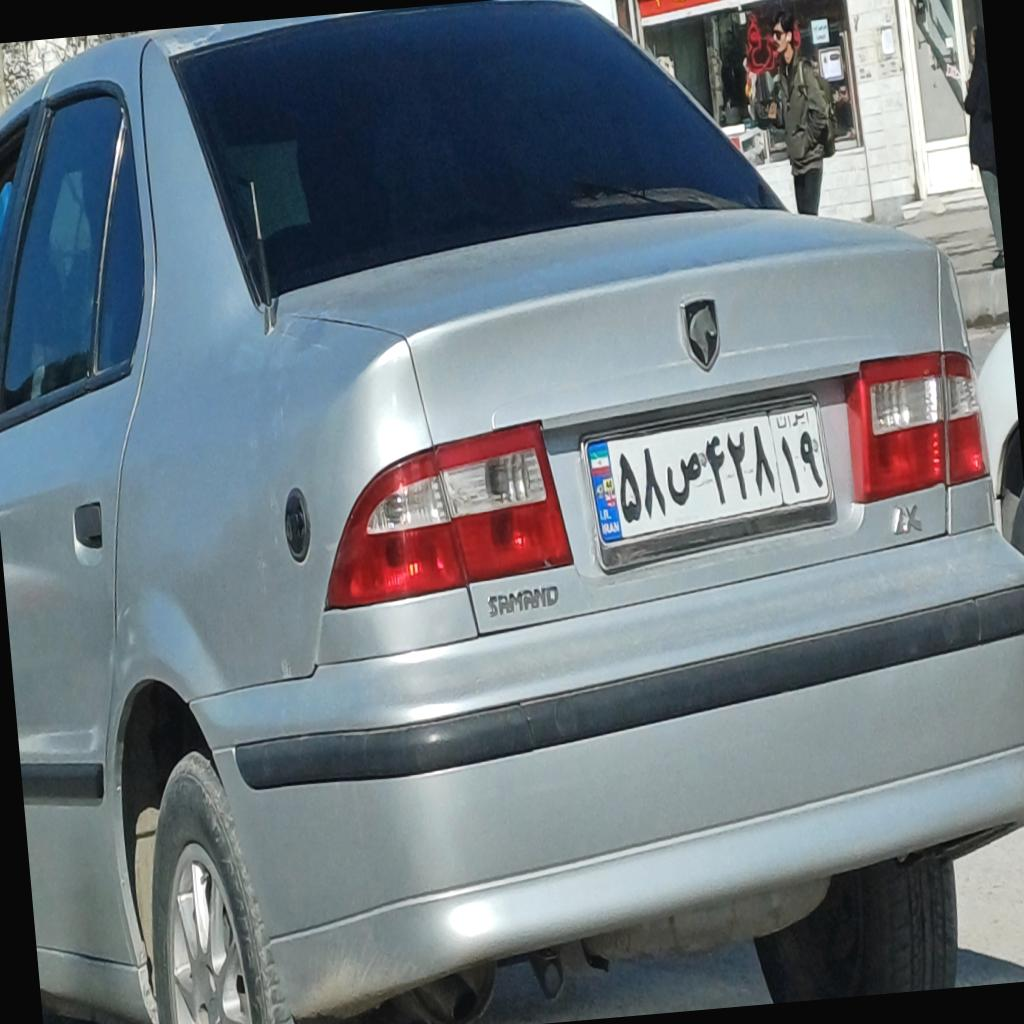Plates: (582, 398, 834, 558)
